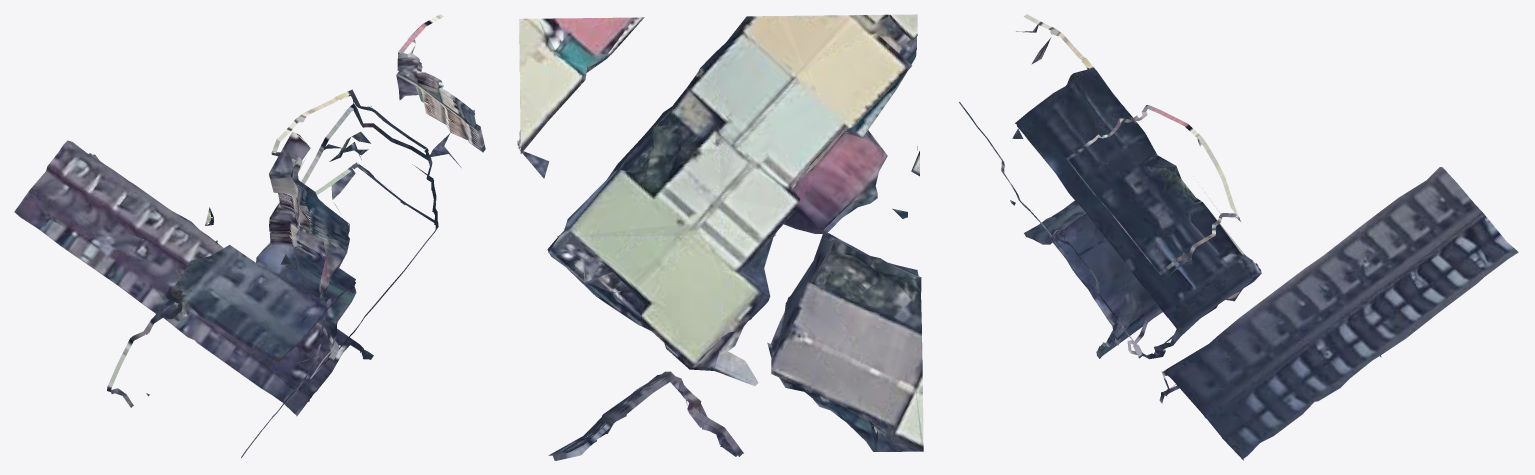
3 views of the same model, side by side, from view 1: azimuth 30°, elevation 25°; view 2: azimuth 150°, elevation 25°; view 3: azimuth 270°, elevation 25° (orthographic). The views are drawn at different scales.
Bounding box in the file's own units: 43.16 × 39.67 × 57.82.
Materials: 2 (2 with a texture image).
